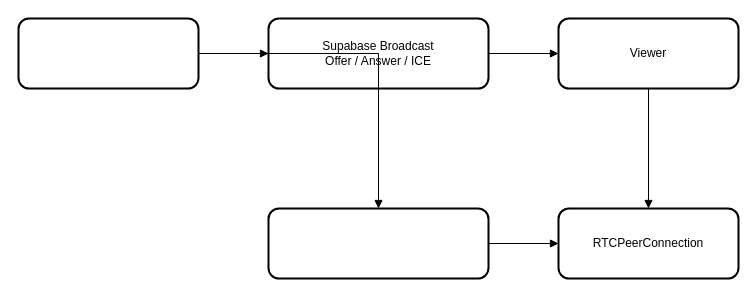
Some shapes in this 756 by 296 pixel diagram are drawn without their labels. The shapes that lost their labels are listed below. From the top down, each one's centre as x and y in pixels, then its label:
the point at 108,53: Camera
the point at 378,243: STUN / TURN
